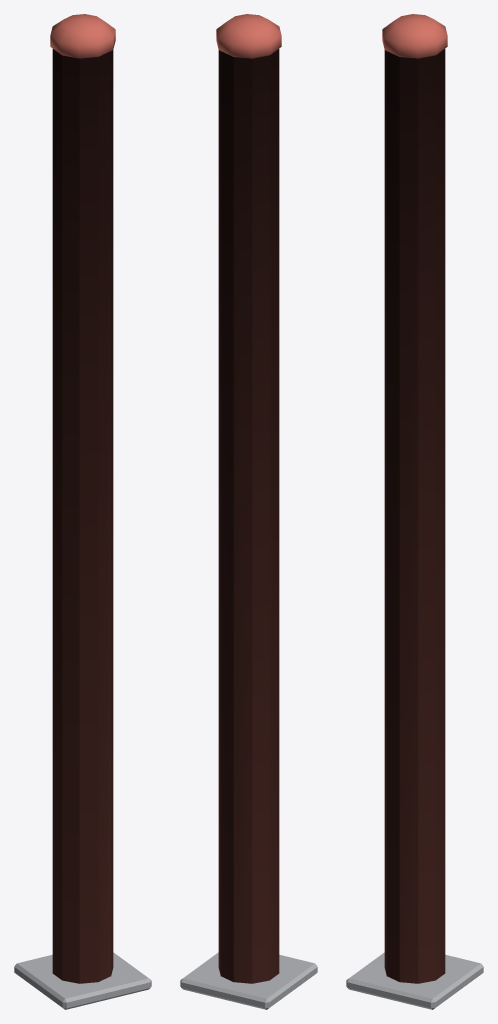
File: rail_post.glb
3 views of the same model, side by side, from view 1: azimuth 30°, elevation 25°; view 2: azimuth 150°, elevation 25°; view 3: azimuth 330°, elevation 25° (orthographic).
Parts seen in each view (by area): view 1: PART; view 2: PART; view 3: PART.
Part boxes in pixels (x1,y1,x2,y2): PART: [14, 14, 151, 1009]; PART: [180, 14, 317, 1009]; PART: [346, 14, 483, 1009].
Size of the model in its own units: 0.1 by 1.03 by 0.1.
